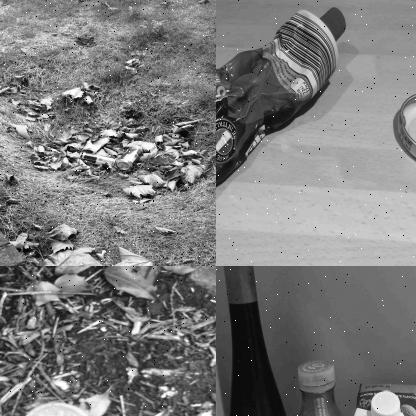glass: (216, 266, 303, 415)
metal: (399, 83, 415, 173), (77, 150, 116, 168), (121, 146, 143, 169)
plastic: (216, 4, 389, 265), (291, 354, 354, 415), (17, 397, 94, 415)
